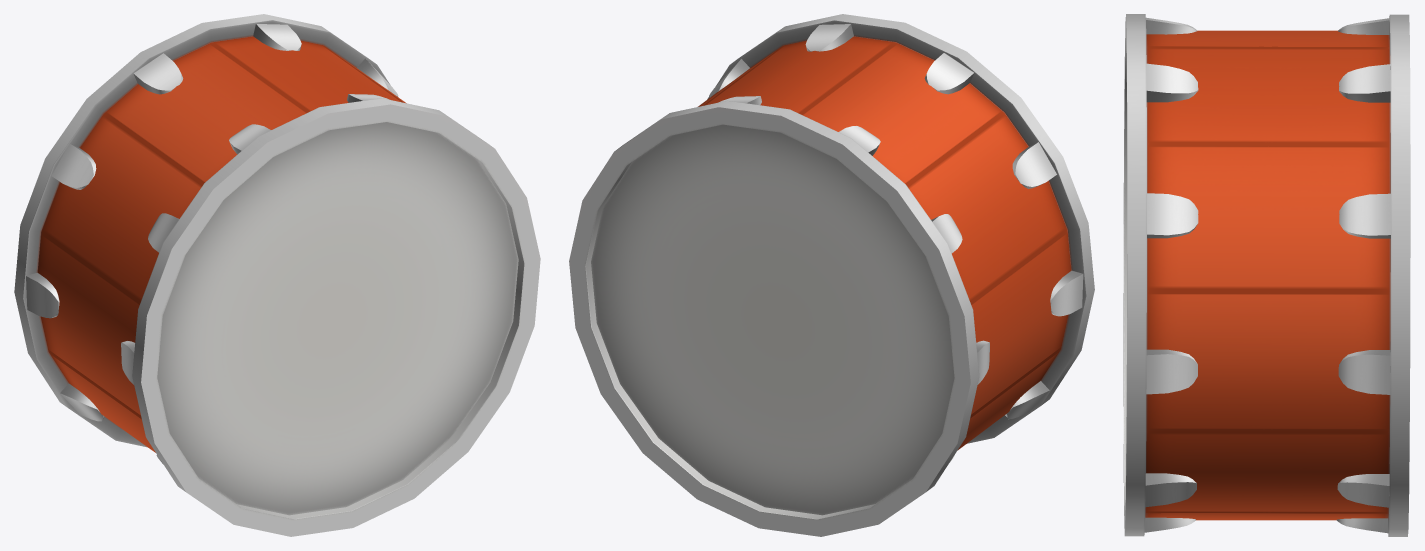
The model's file is ENV2010037.fbx.
3 views of the same model, side by side, from view 1: azimuth 30°, elevation 25°; view 2: azimuth 150°, elevation 25°; view 3: azimuth 270°, elevation 25° (orthographic). The views are drawn at different scales.
Parts seen in each view (by area): view 1: smENV2010037; view 2: smENV2010037; view 3: smENV2010037.
Part boxes in pixels (x1,y1,x2,y2): smENV2010037: (14, 14, 540, 536); smENV2010037: (569, 14, 1094, 536); smENV2010037: (1123, 14, 1410, 536).
Bounding box in the file's own units: 20.32 × 20.31 × 11.13.
Materials: 1 (1 with a texture image).
